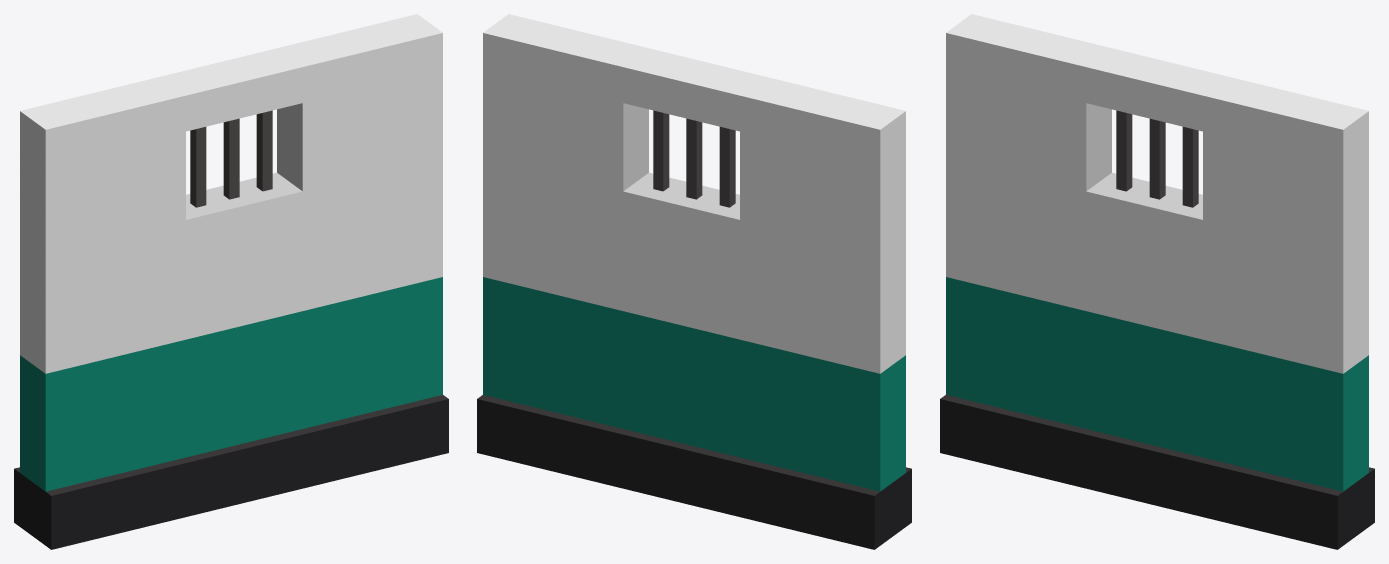
File: wallroad.fbx
The picture shows the model from 3 angles, left to right: view 1: azimuth 30°, elevation 25°; view 2: azimuth 150°, elevation 25°; view 3: azimuth 330°, elevation 25°; orthographic projection.
Parts seen in each view (by area): view 1: wallroad; view 2: wallroad; view 3: wallroad.
Part boxes in pixels (left/top/right/bottom): wallroad: left=14, top=14, right=448, bottom=549; wallroad: left=477, top=14, right=911, bottom=549; wallroad: left=940, top=14, right=1374, bottom=549.
Bounding box in the file's own units: 160 × 160 × 26.
